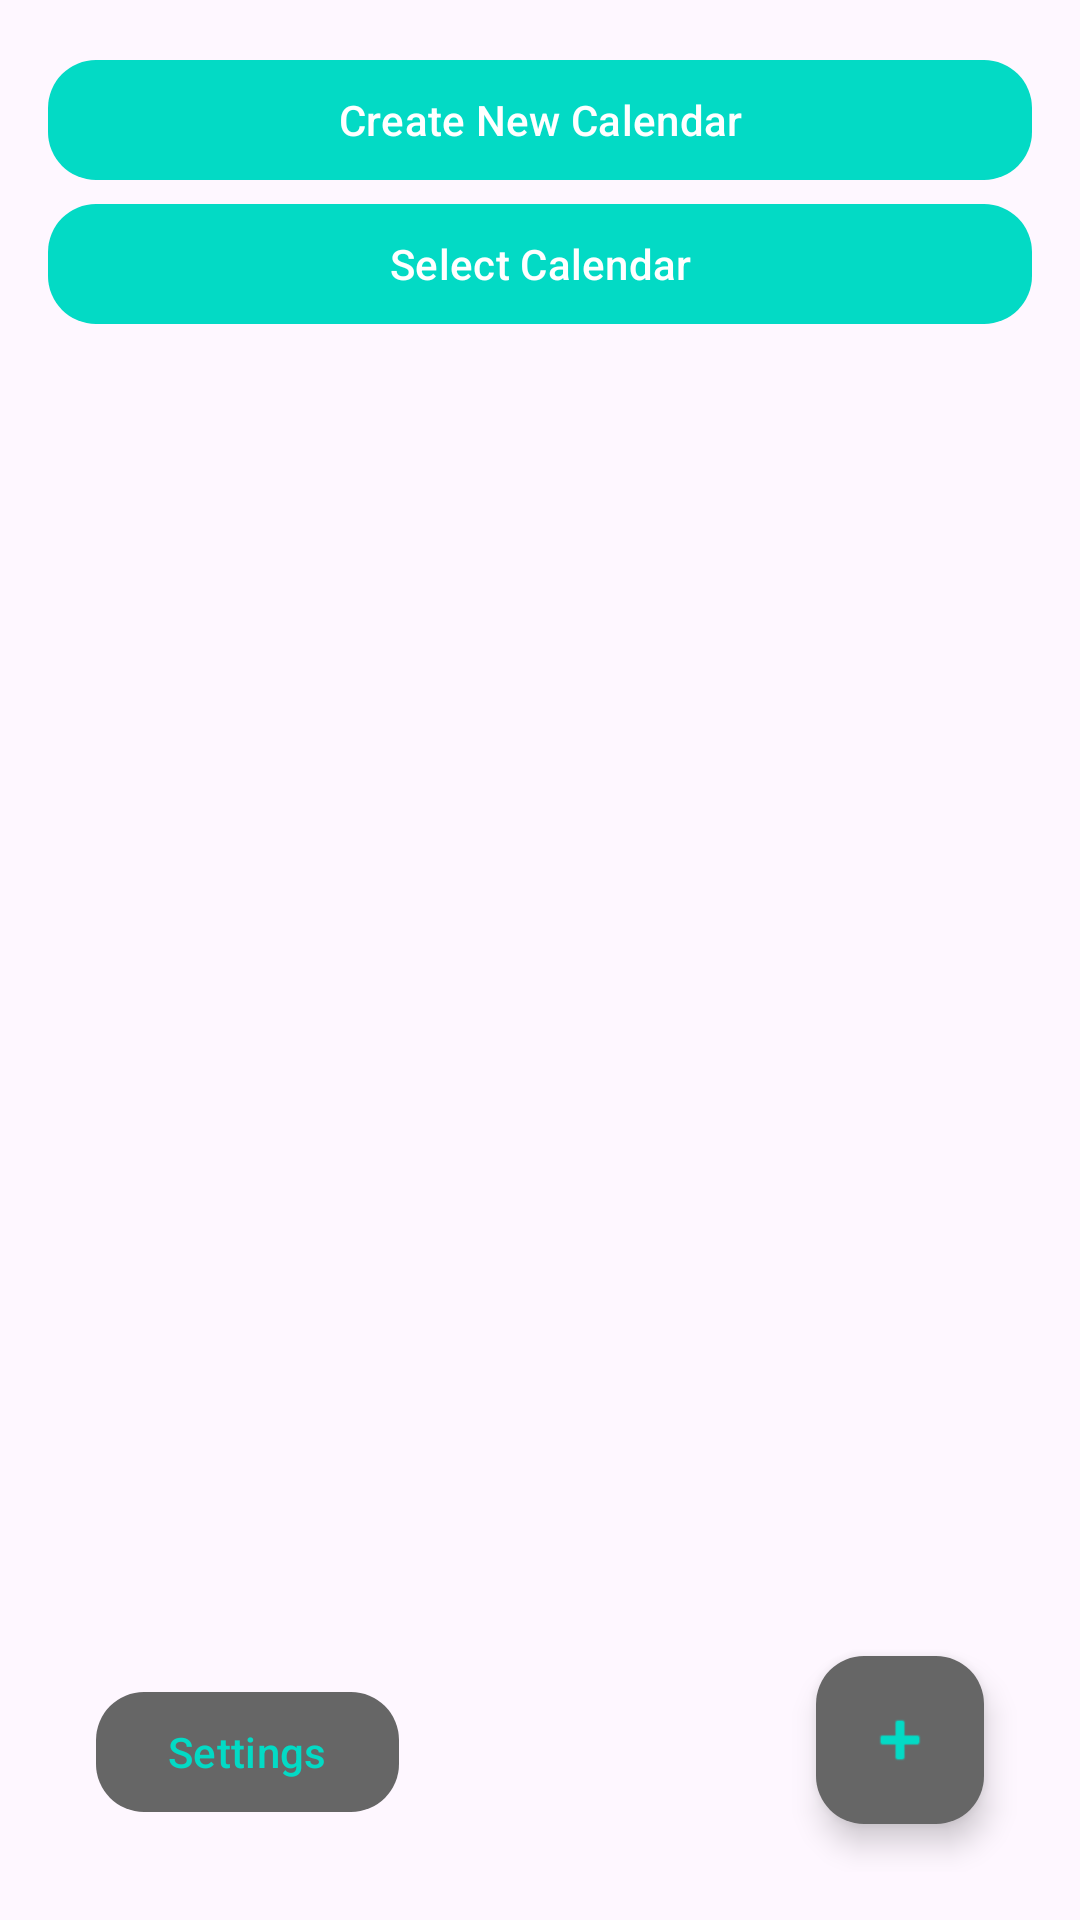

Point at icon controls on the screen. Image size 1080 x 1920, points as (x,y).
Add Appointment: (900,1740)
